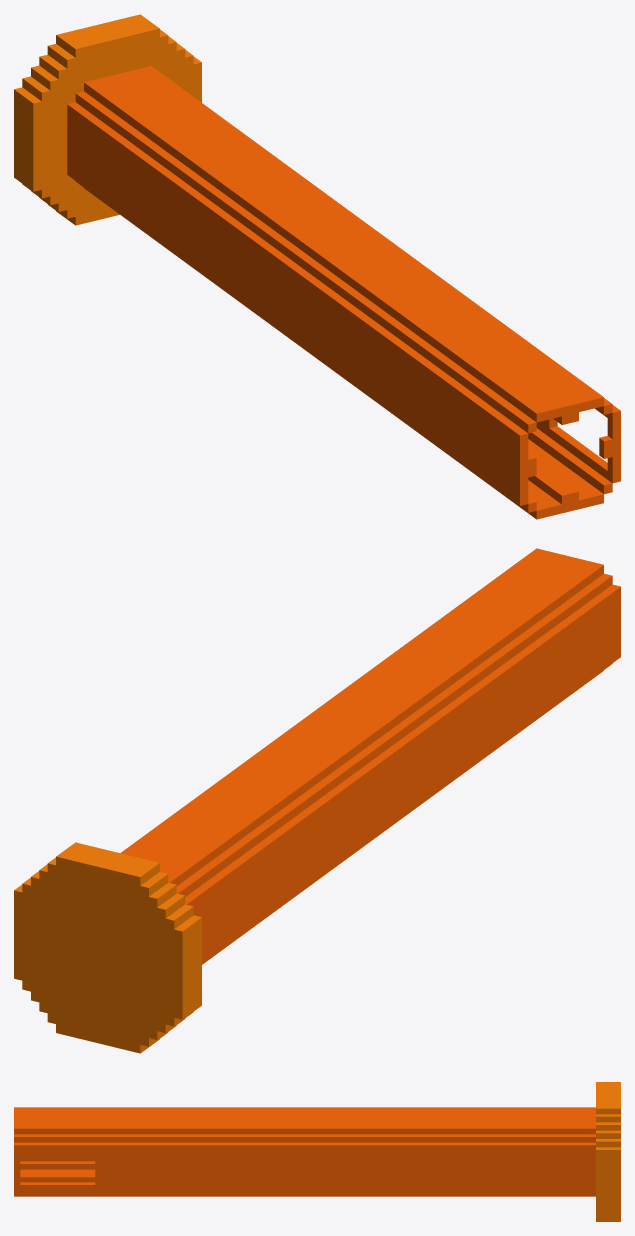
Rendered from stock_launcher_inside.obj.
3 renders of one model, top to bottom at view 1: azimuth 30°, elevation 25°; view 2: azimuth 150°, elevation 25°; view 3: azimuth 270°, elevation 25°, orthographic. The views are drawn at different scales.
Size of the model in its own units: 2 by 2 by 9.7.
1 material, 1 textured.
